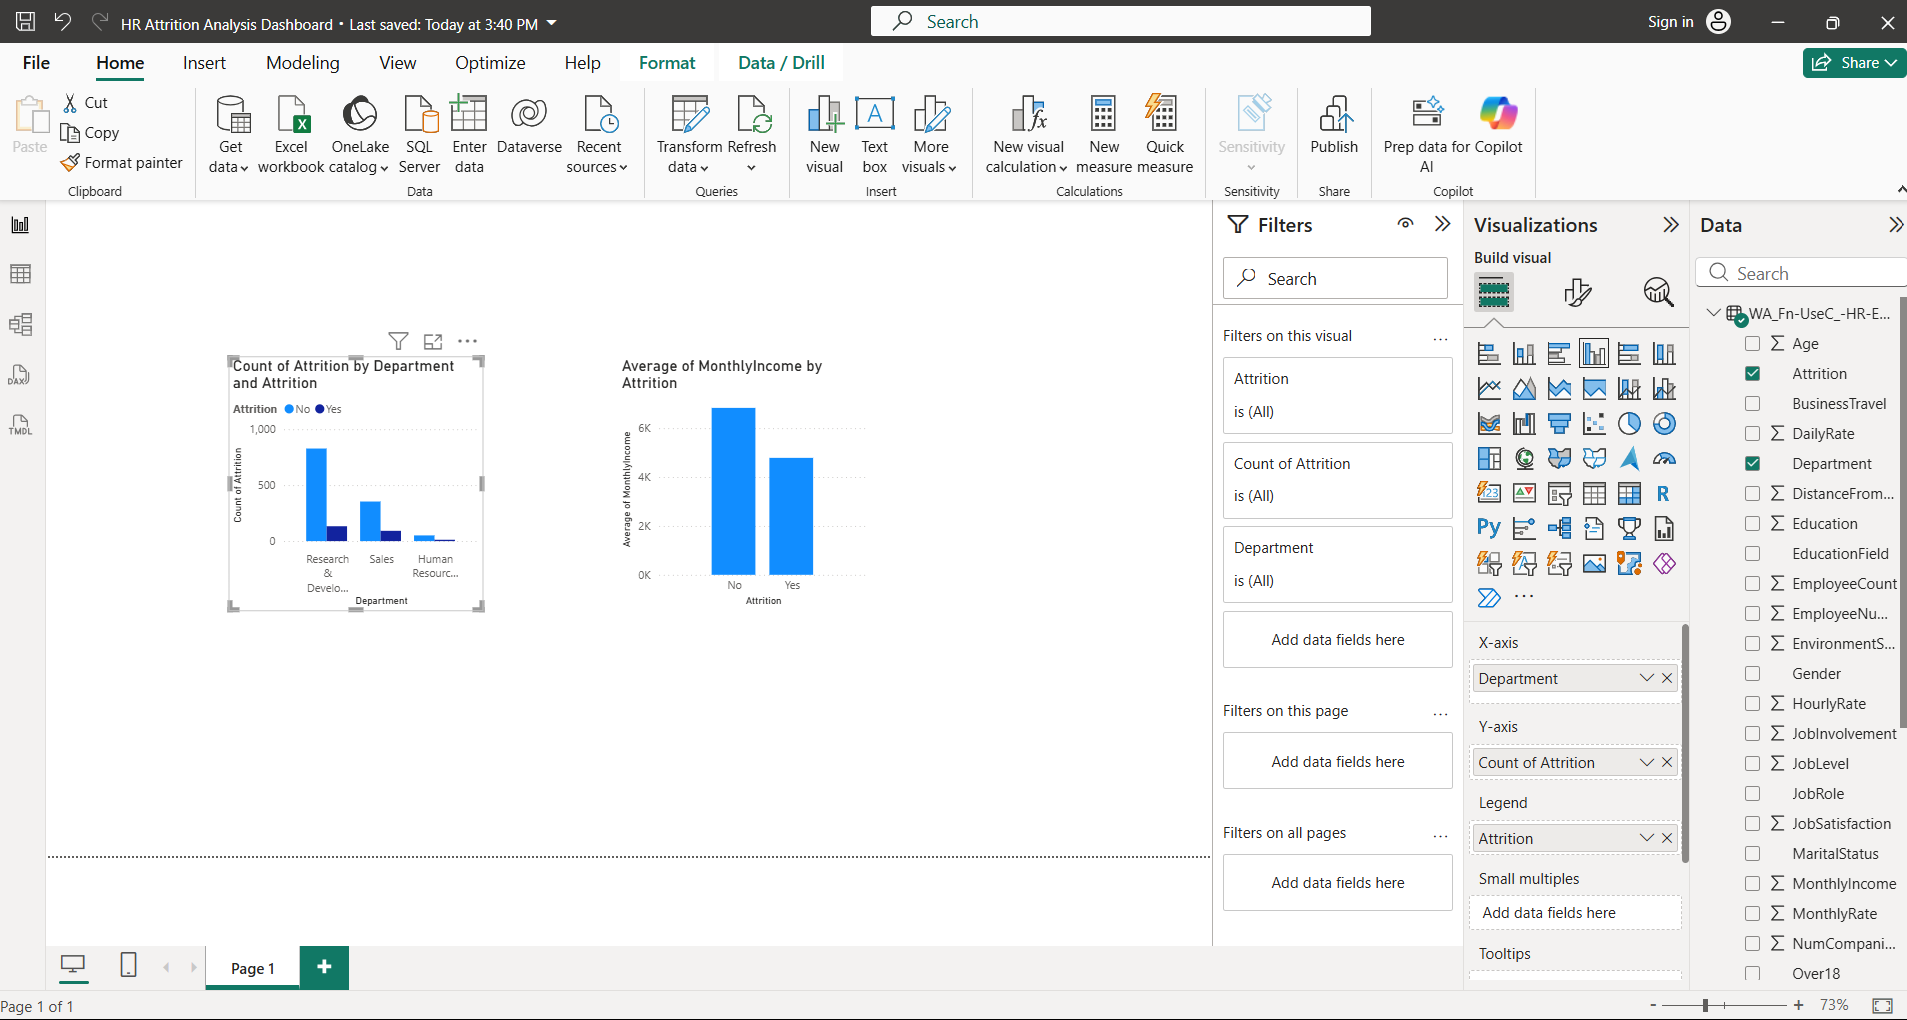

This screenshot's page, from the dashboard's own definition file:
{"tool":"powerbi","page":{"name":"Page 1","canvas":[1280,720],"ordinal":0},"visuals":[{"type":"clusteredColumnChart","fields":{"Category":["WA_Fn-UseC_-HR-Employee-Attrition.Department"],"Y":["CountNonNull(WA_Fn-UseC_-HR-Employee-Attrition.Attrition)"],"Series":["WA_Fn-UseC_-HR-Employee-Attrition.Attrition"]},"box":[200.3,171.5,279.9,279.9],"z":0},{"type":"clusteredColumnChart","fields":{"Category":["WA_Fn-UseC_-HR-Employee-Attrition.Attrition"],"Y":["Avg(WA_Fn-UseC_-HR-Employee-Attrition.MonthlyIncome)"]},"box":[627.1,171.5,279.9,279.9],"z":1}]}

Visuals, with their boxes on the page's 1280x720 design canvas (x1, y1, x2, y2). These are canvas units, not pixel positions in the 1907x1020 screenshot, which may show the page scaled, cropped or inside an application window:
clusteredColumnChart - WA_Fn-UseC_-HR-Employee-Attrition.Department x CountNonNull(WA_Fn-UseC_-HR-Employee-Attrition.Attrition): l=200, t=172, r=480, b=451
clusteredColumnChart - WA_Fn-UseC_-HR-Employee-Attrition.Attrition x Avg(WA_Fn-UseC_-HR-Employee-Attrition.MonthlyIncome): l=627, t=172, r=907, b=451
